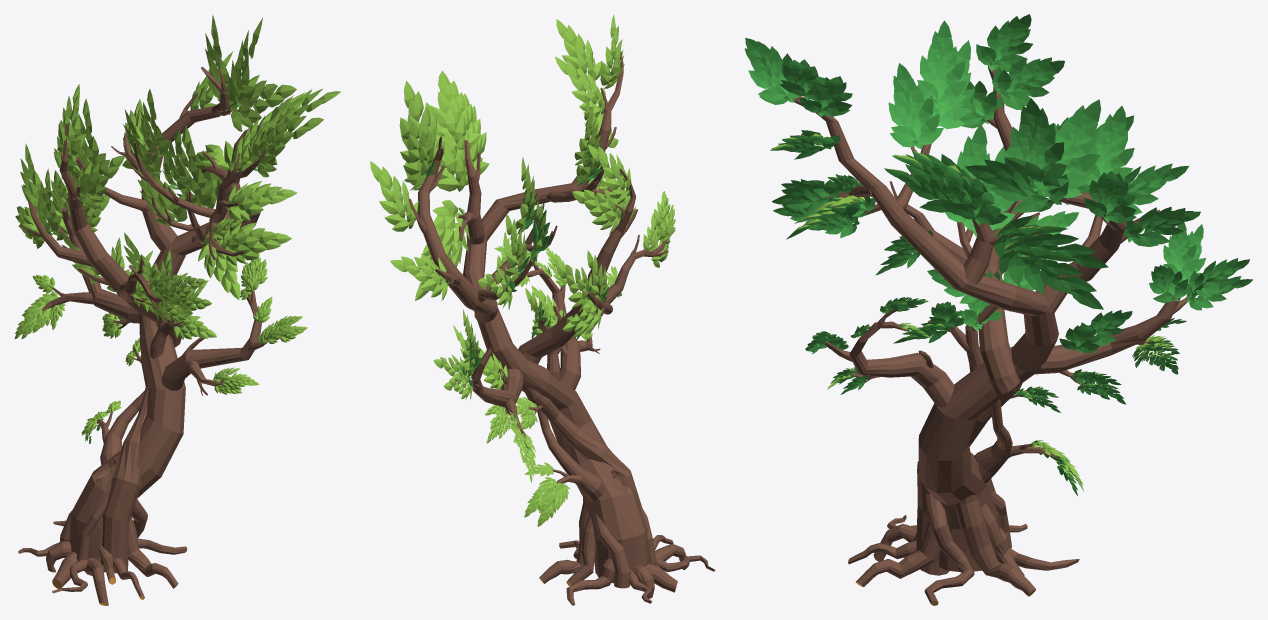
The model's file is Big Tree.glb.
The picture shows the model from 3 angles, left to right: view 1: azimuth 30°, elevation 25°; view 2: azimuth 150°, elevation 25°; view 3: azimuth 270°, elevation 25°; orthographic projection. The views are drawn at different scales.
Parts seen in each view (by area): view 1: group1406566609; view 2: group1406566609; view 3: group1406566609.
Part boxes in pixels (x1,y1,x2,y2): group1406566609: (14, 14, 340, 605); group1406566609: (370, 15, 715, 605); group1406566609: (744, 14, 1252, 605).
Size of the model in its own units: 1.43 by 2.38 by 1.83.
